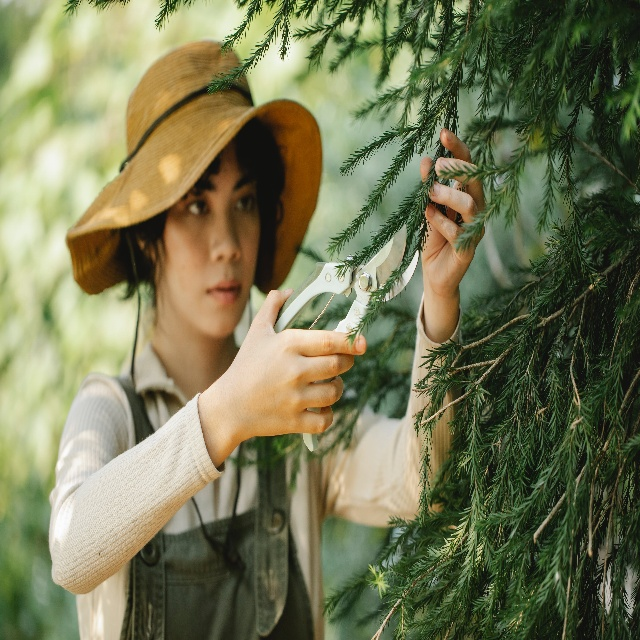Sin_guantes: (225, 287, 367, 444), (419, 129, 486, 297)
